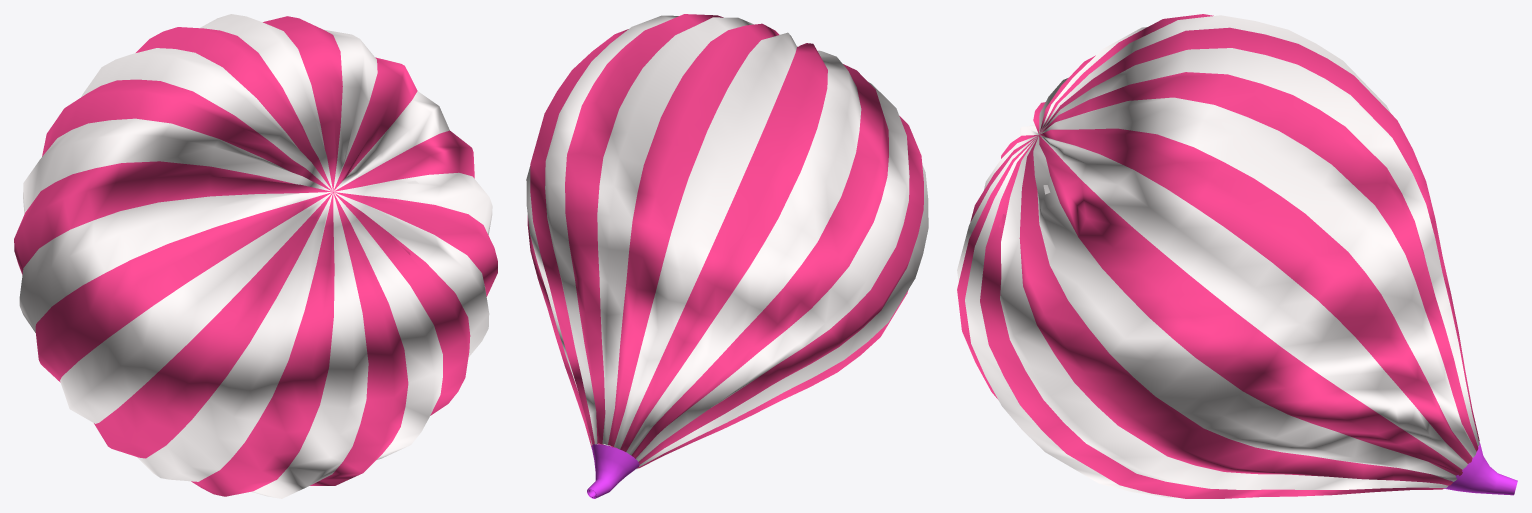
File: balloon.fbx
3 renders of one model, left to right at view 1: azimuth 30°, elevation 25°; view 2: azimuth 150°, elevation 25°; view 3: azimuth 270°, elevation 25°, orthographic. The views are drawn at different scales.
Parts seen in each view (by area): view 1: Object006; view 2: Object006; view 3: Object006.
Part boxes in pixels (x1=…): Object006: x1=14, y1=14, x2=497, y2=498; Object006: x1=526, y1=14, x2=928, y2=498; Object006: x1=957, y1=14, x2=1517, y2=498.
Size of the model in its own units: 387 by 399 by 445.
